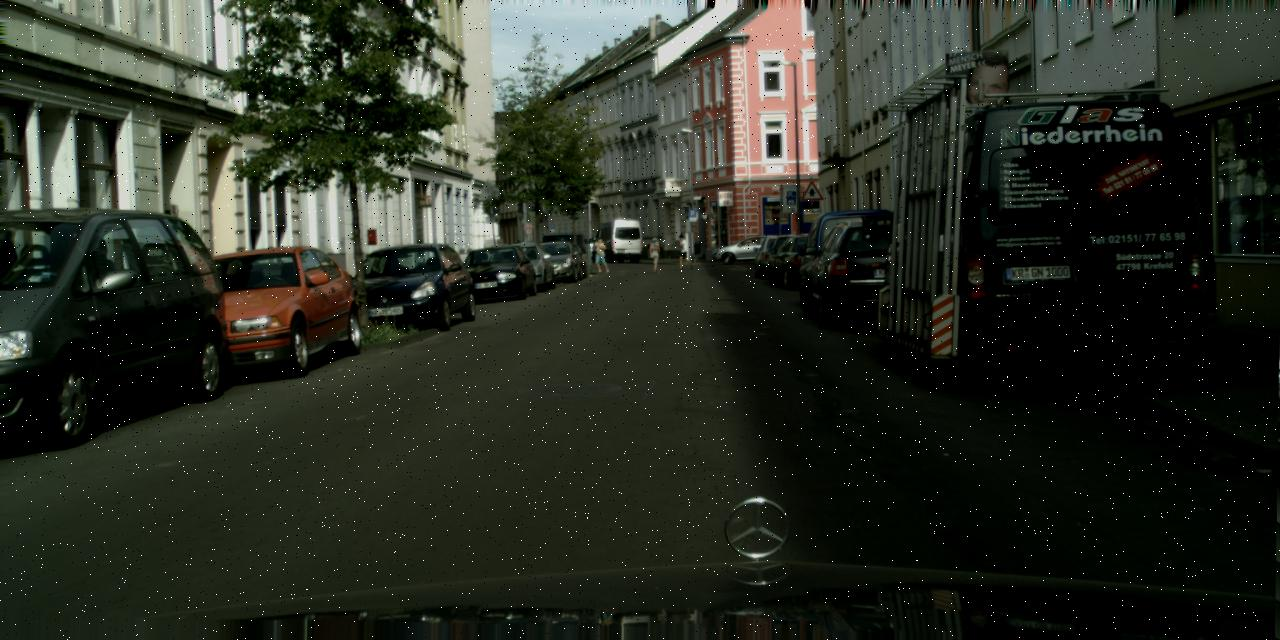ped: (676, 234, 691, 268), (648, 237, 662, 272), (594, 238, 608, 272)
